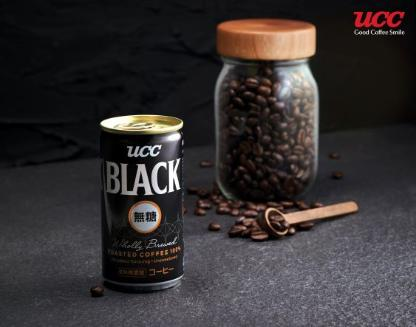Can: (100, 116, 184, 290)
